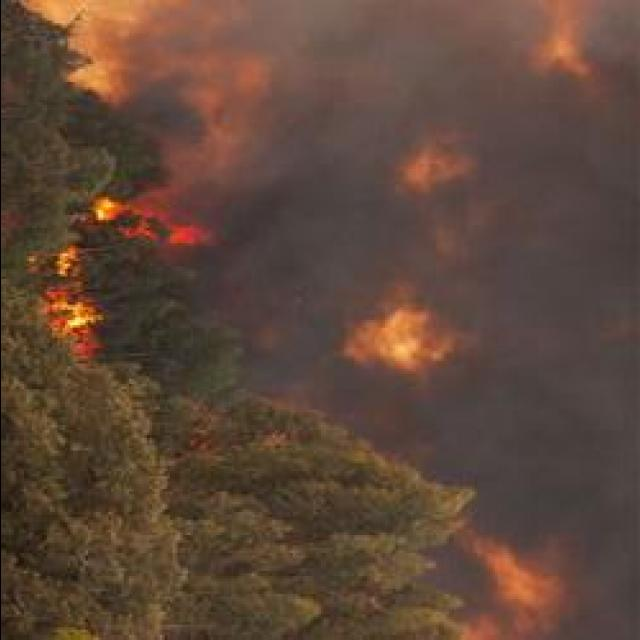smoke: (212, 268, 342, 402), (381, 168, 505, 286), (210, 156, 342, 264), (494, 33, 594, 162), (131, 38, 279, 124), (468, 534, 586, 640)
